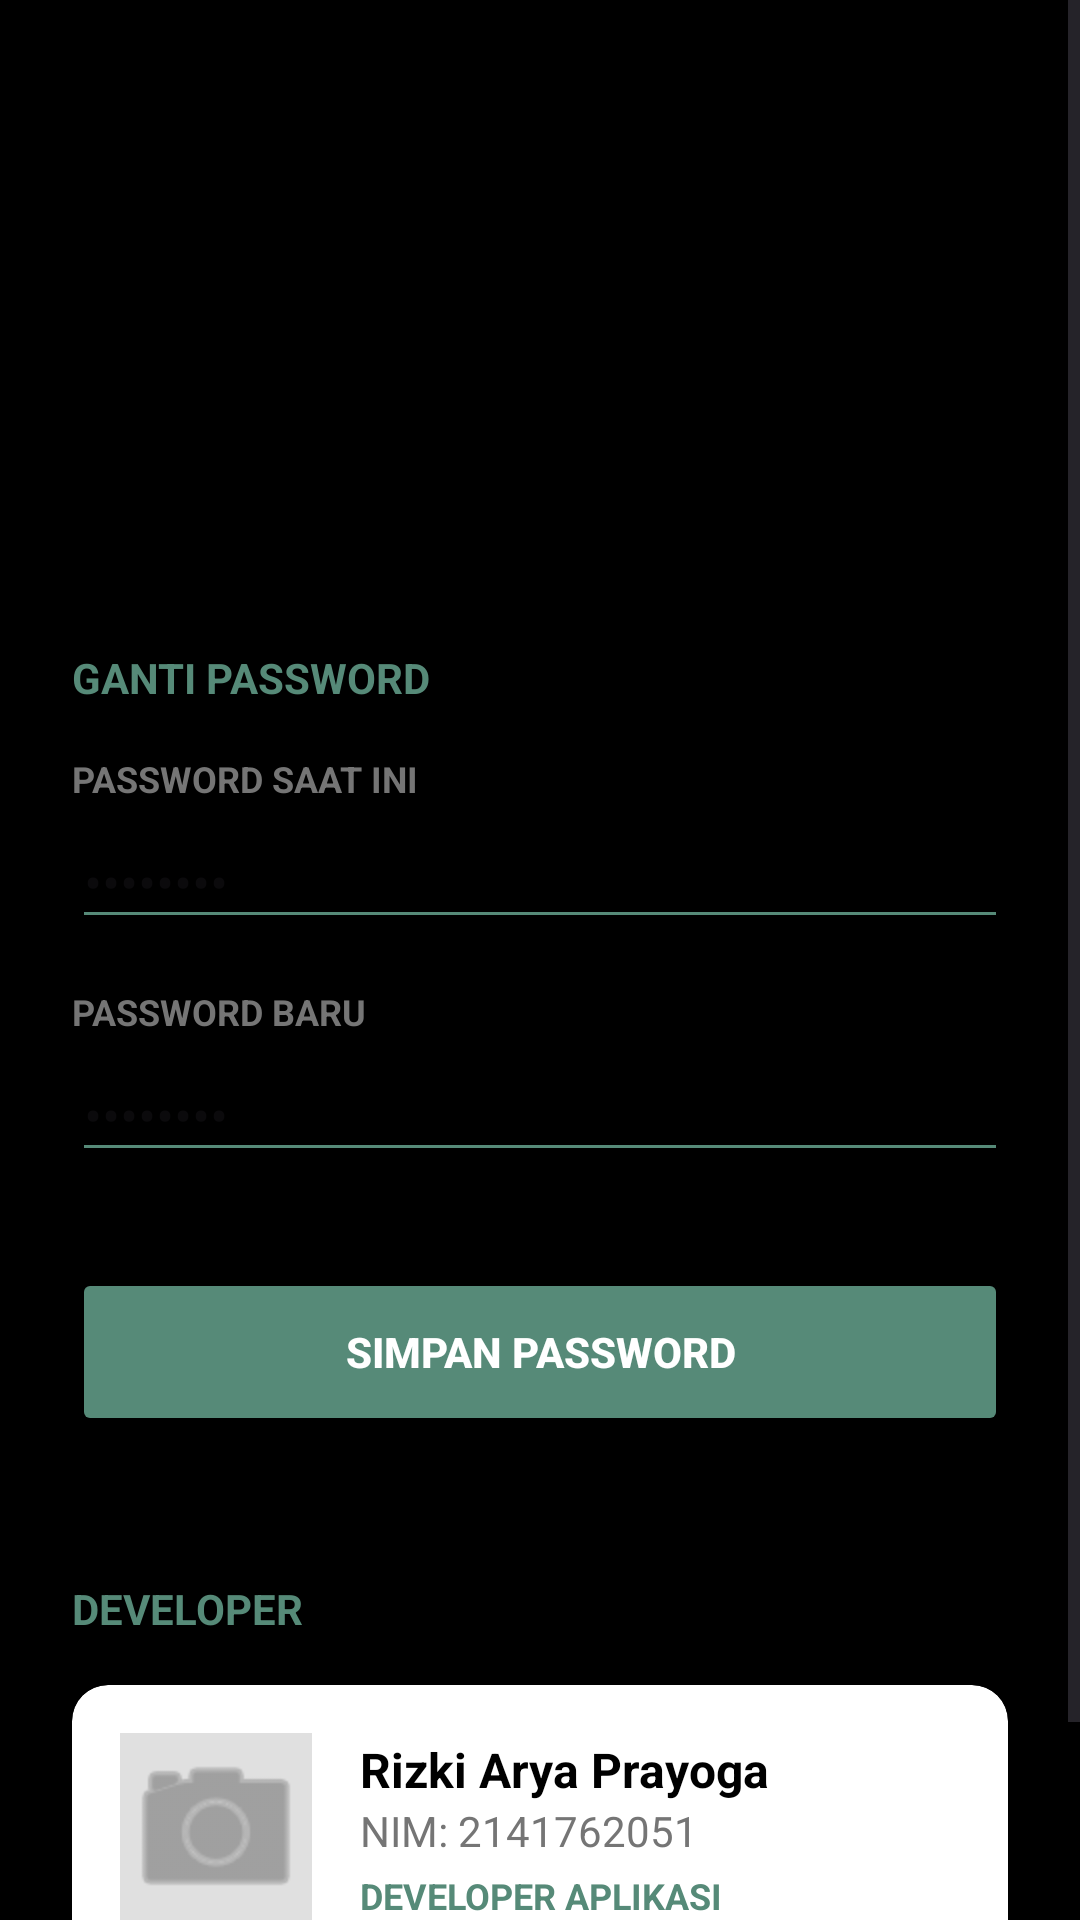

Named icons in this screenshot (1080*1920) and their centers, (x=x, y=y):
camera: (x=216, y=1826)
